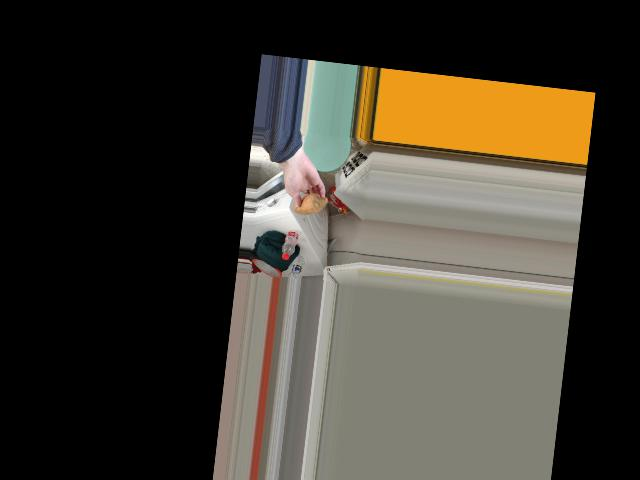sweet_potato: (294, 187, 325, 216)
